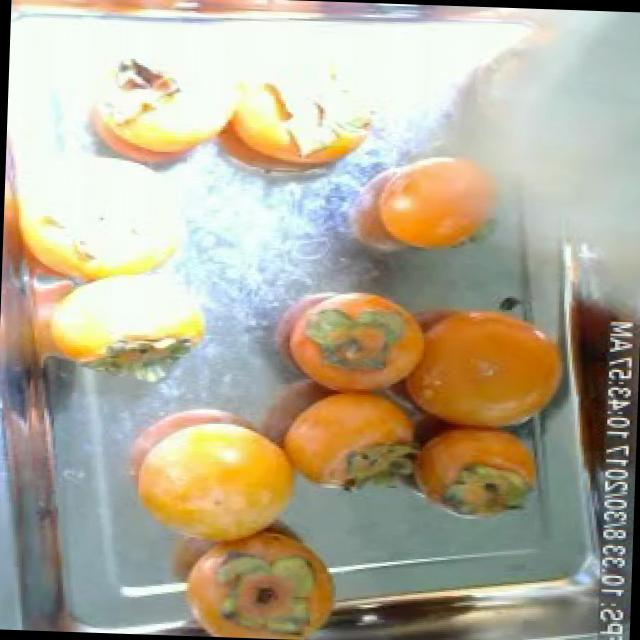Fruit: (368, 270, 588, 447), (168, 511, 356, 639), (344, 138, 510, 264), (395, 407, 548, 530)
